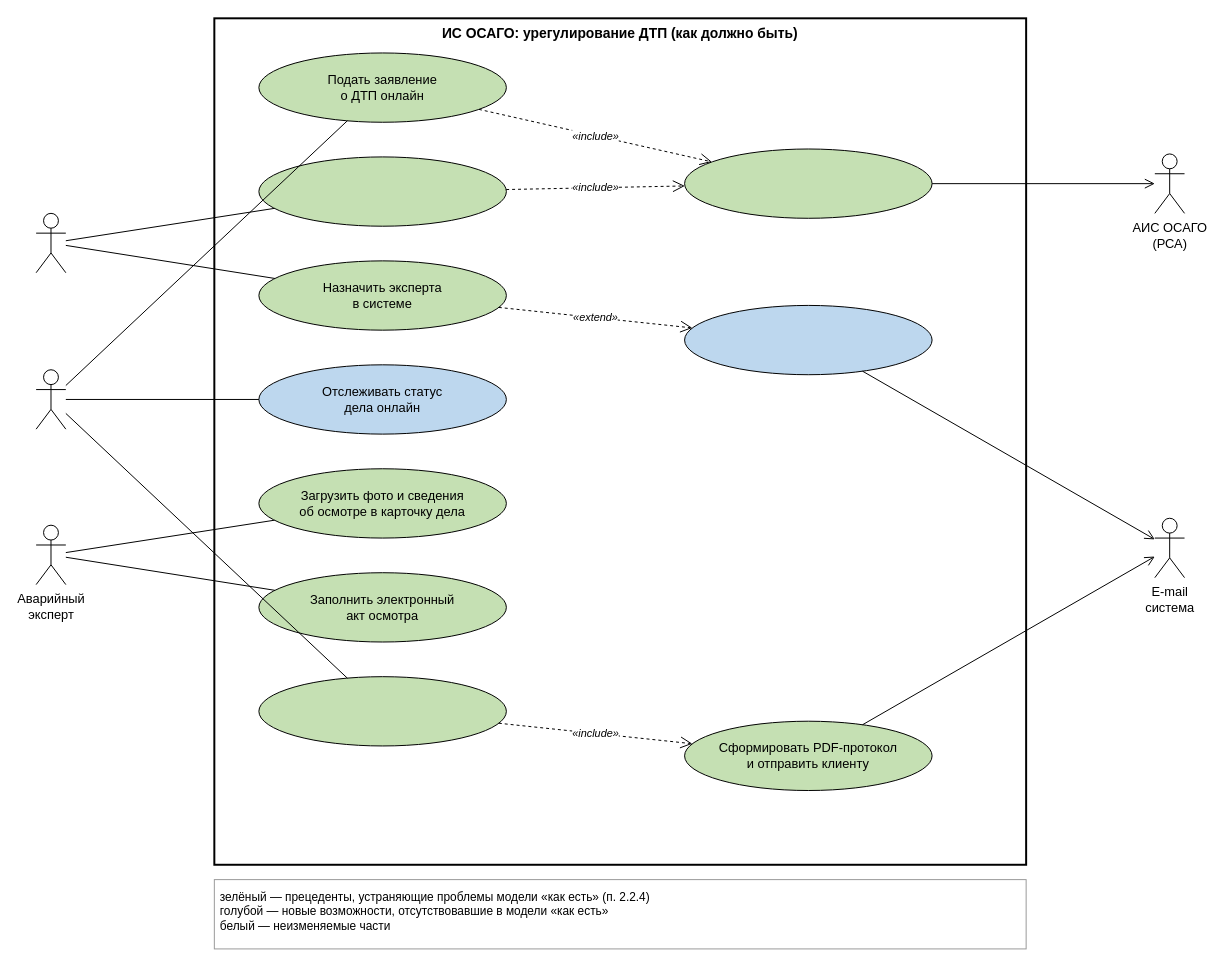
Some shapes in this 1224 by 966 pixel diagram are drawn without their labels. Each missing label, with the centre of its shape:
Диспетчер: point 50,242
Зарегистрировать заявление о ДТП по телефону: point 382,191
Клиент: point 50,399
Подписать протокол осмотра электронной подписью: point 382,711
Проверить полис участника в АИС ОСАГО автоматически: point 808,183
Уведомить клиента о статусе дела по e-mail: point 808,339
